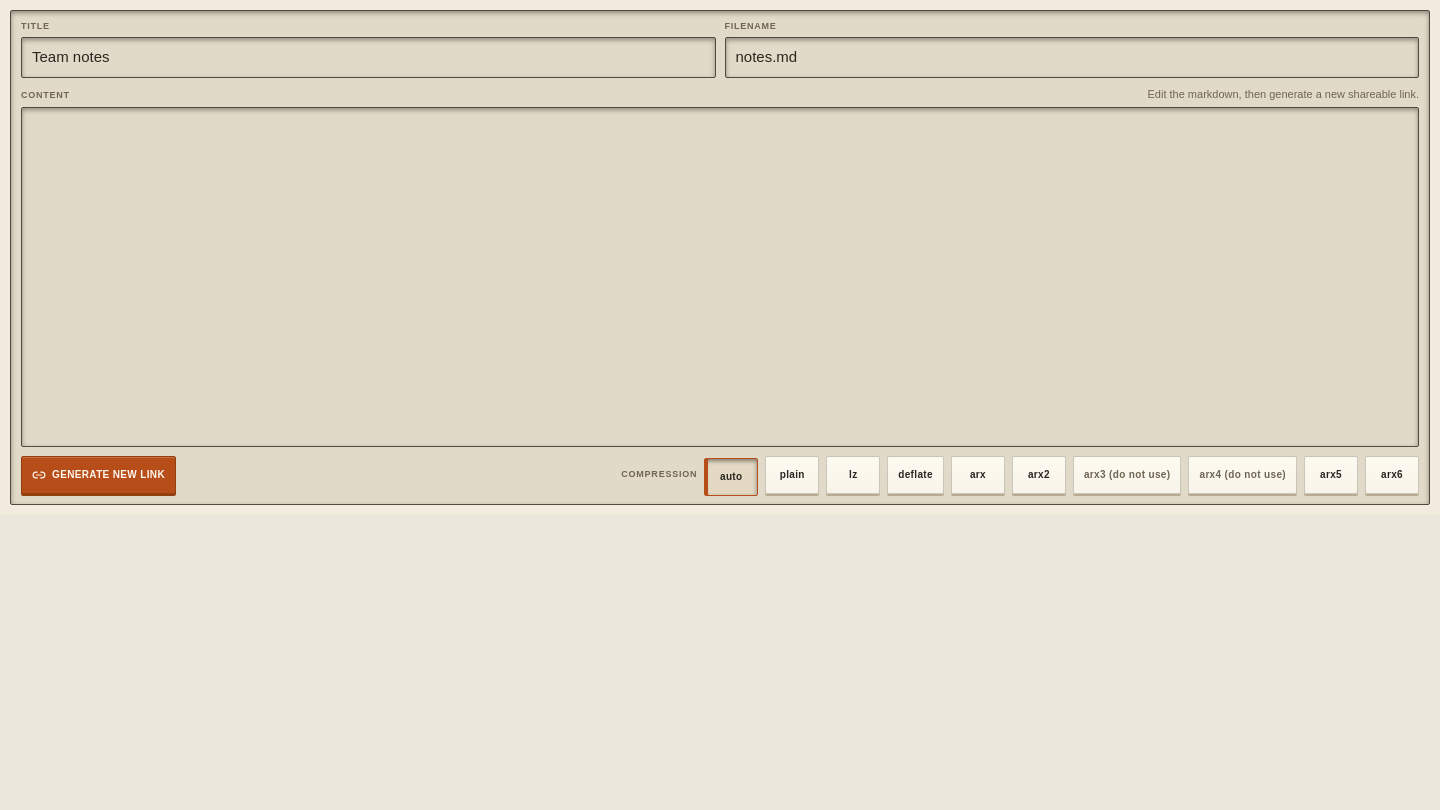
Scenario: ArtifactEditor › surfaces generation errors without offering a preview
Click the button "Generate new link": (98, 475) [21,456,176,494]
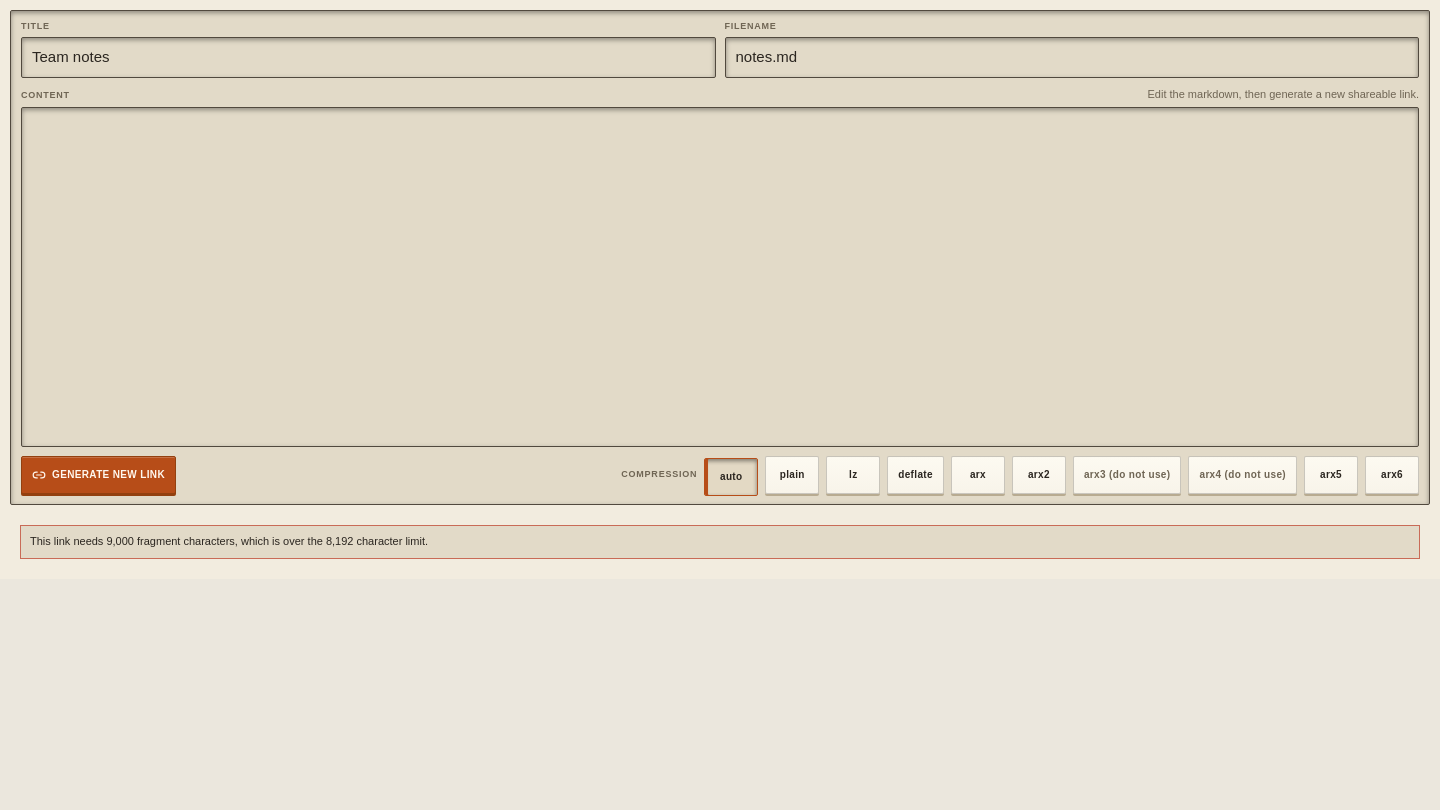
Check: the message shows "8,192 character limit", box [30,535,428,547]
